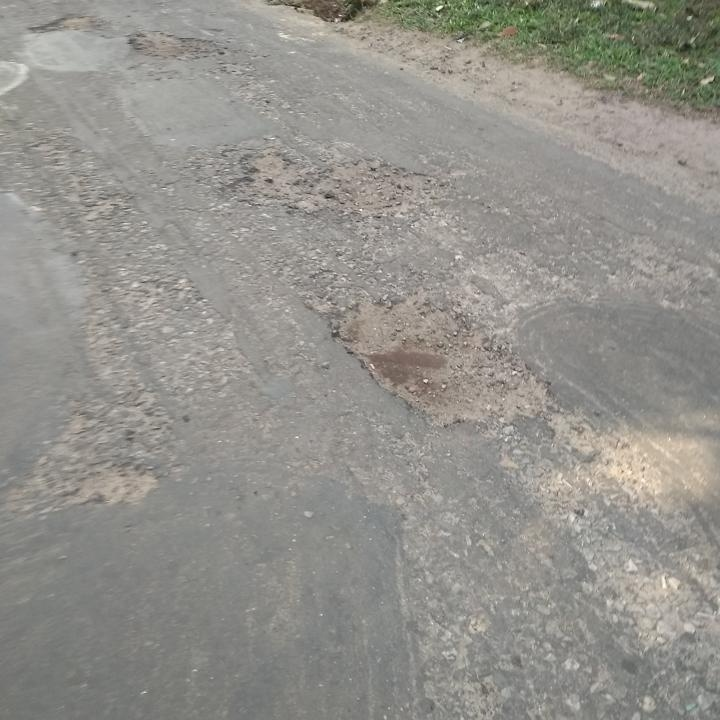pothole: (323, 287, 560, 433), (222, 149, 452, 219), (127, 25, 231, 64), (26, 9, 101, 38)
